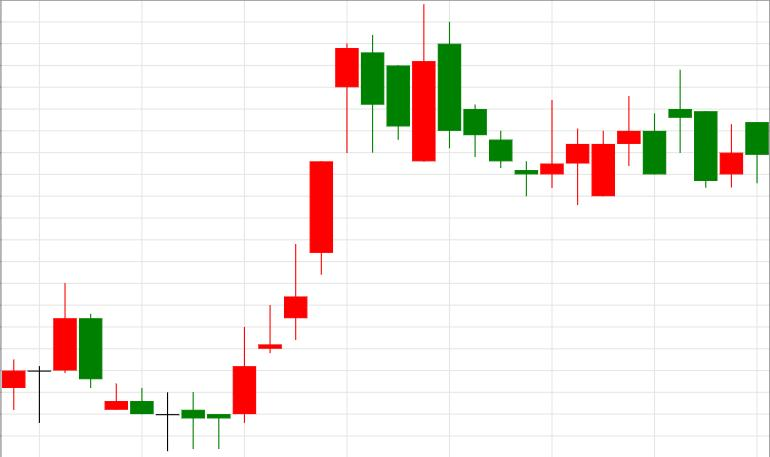hanging_man_fall: (207, 43, 359, 449)
